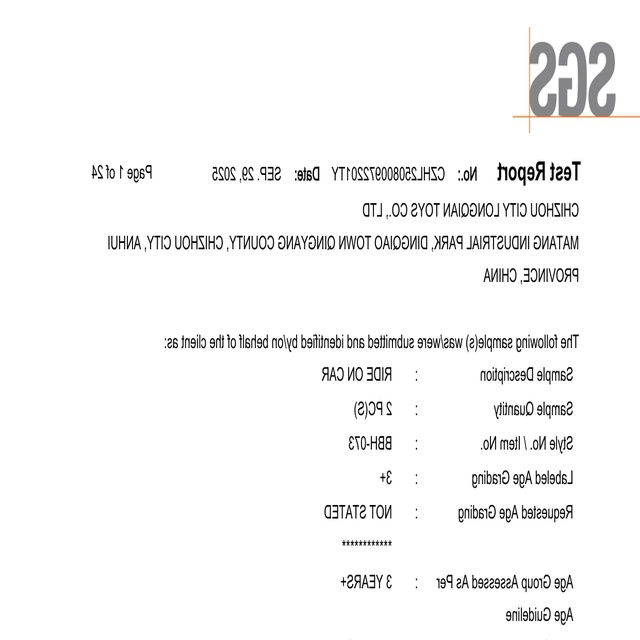sgs: (529, 42, 616, 117)
